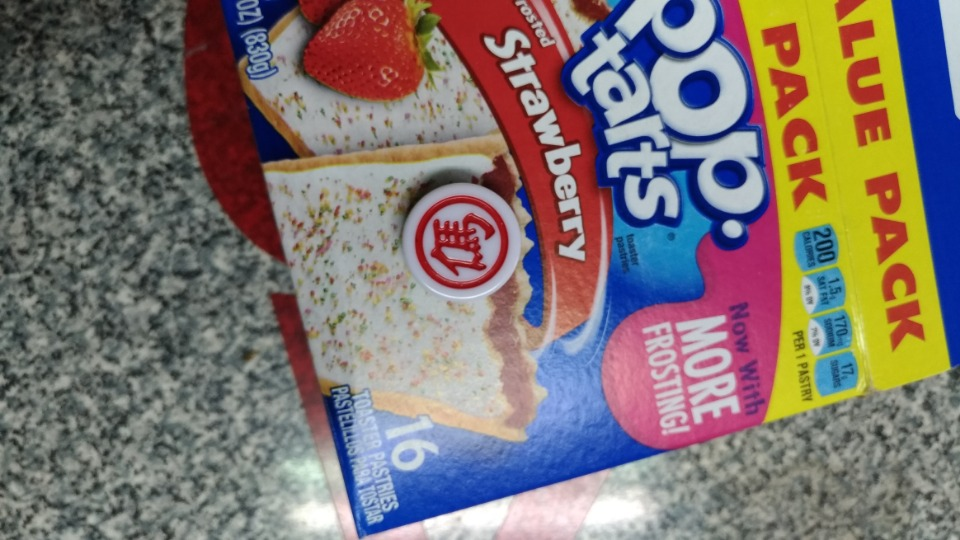r-knight: (393, 173, 533, 300)
